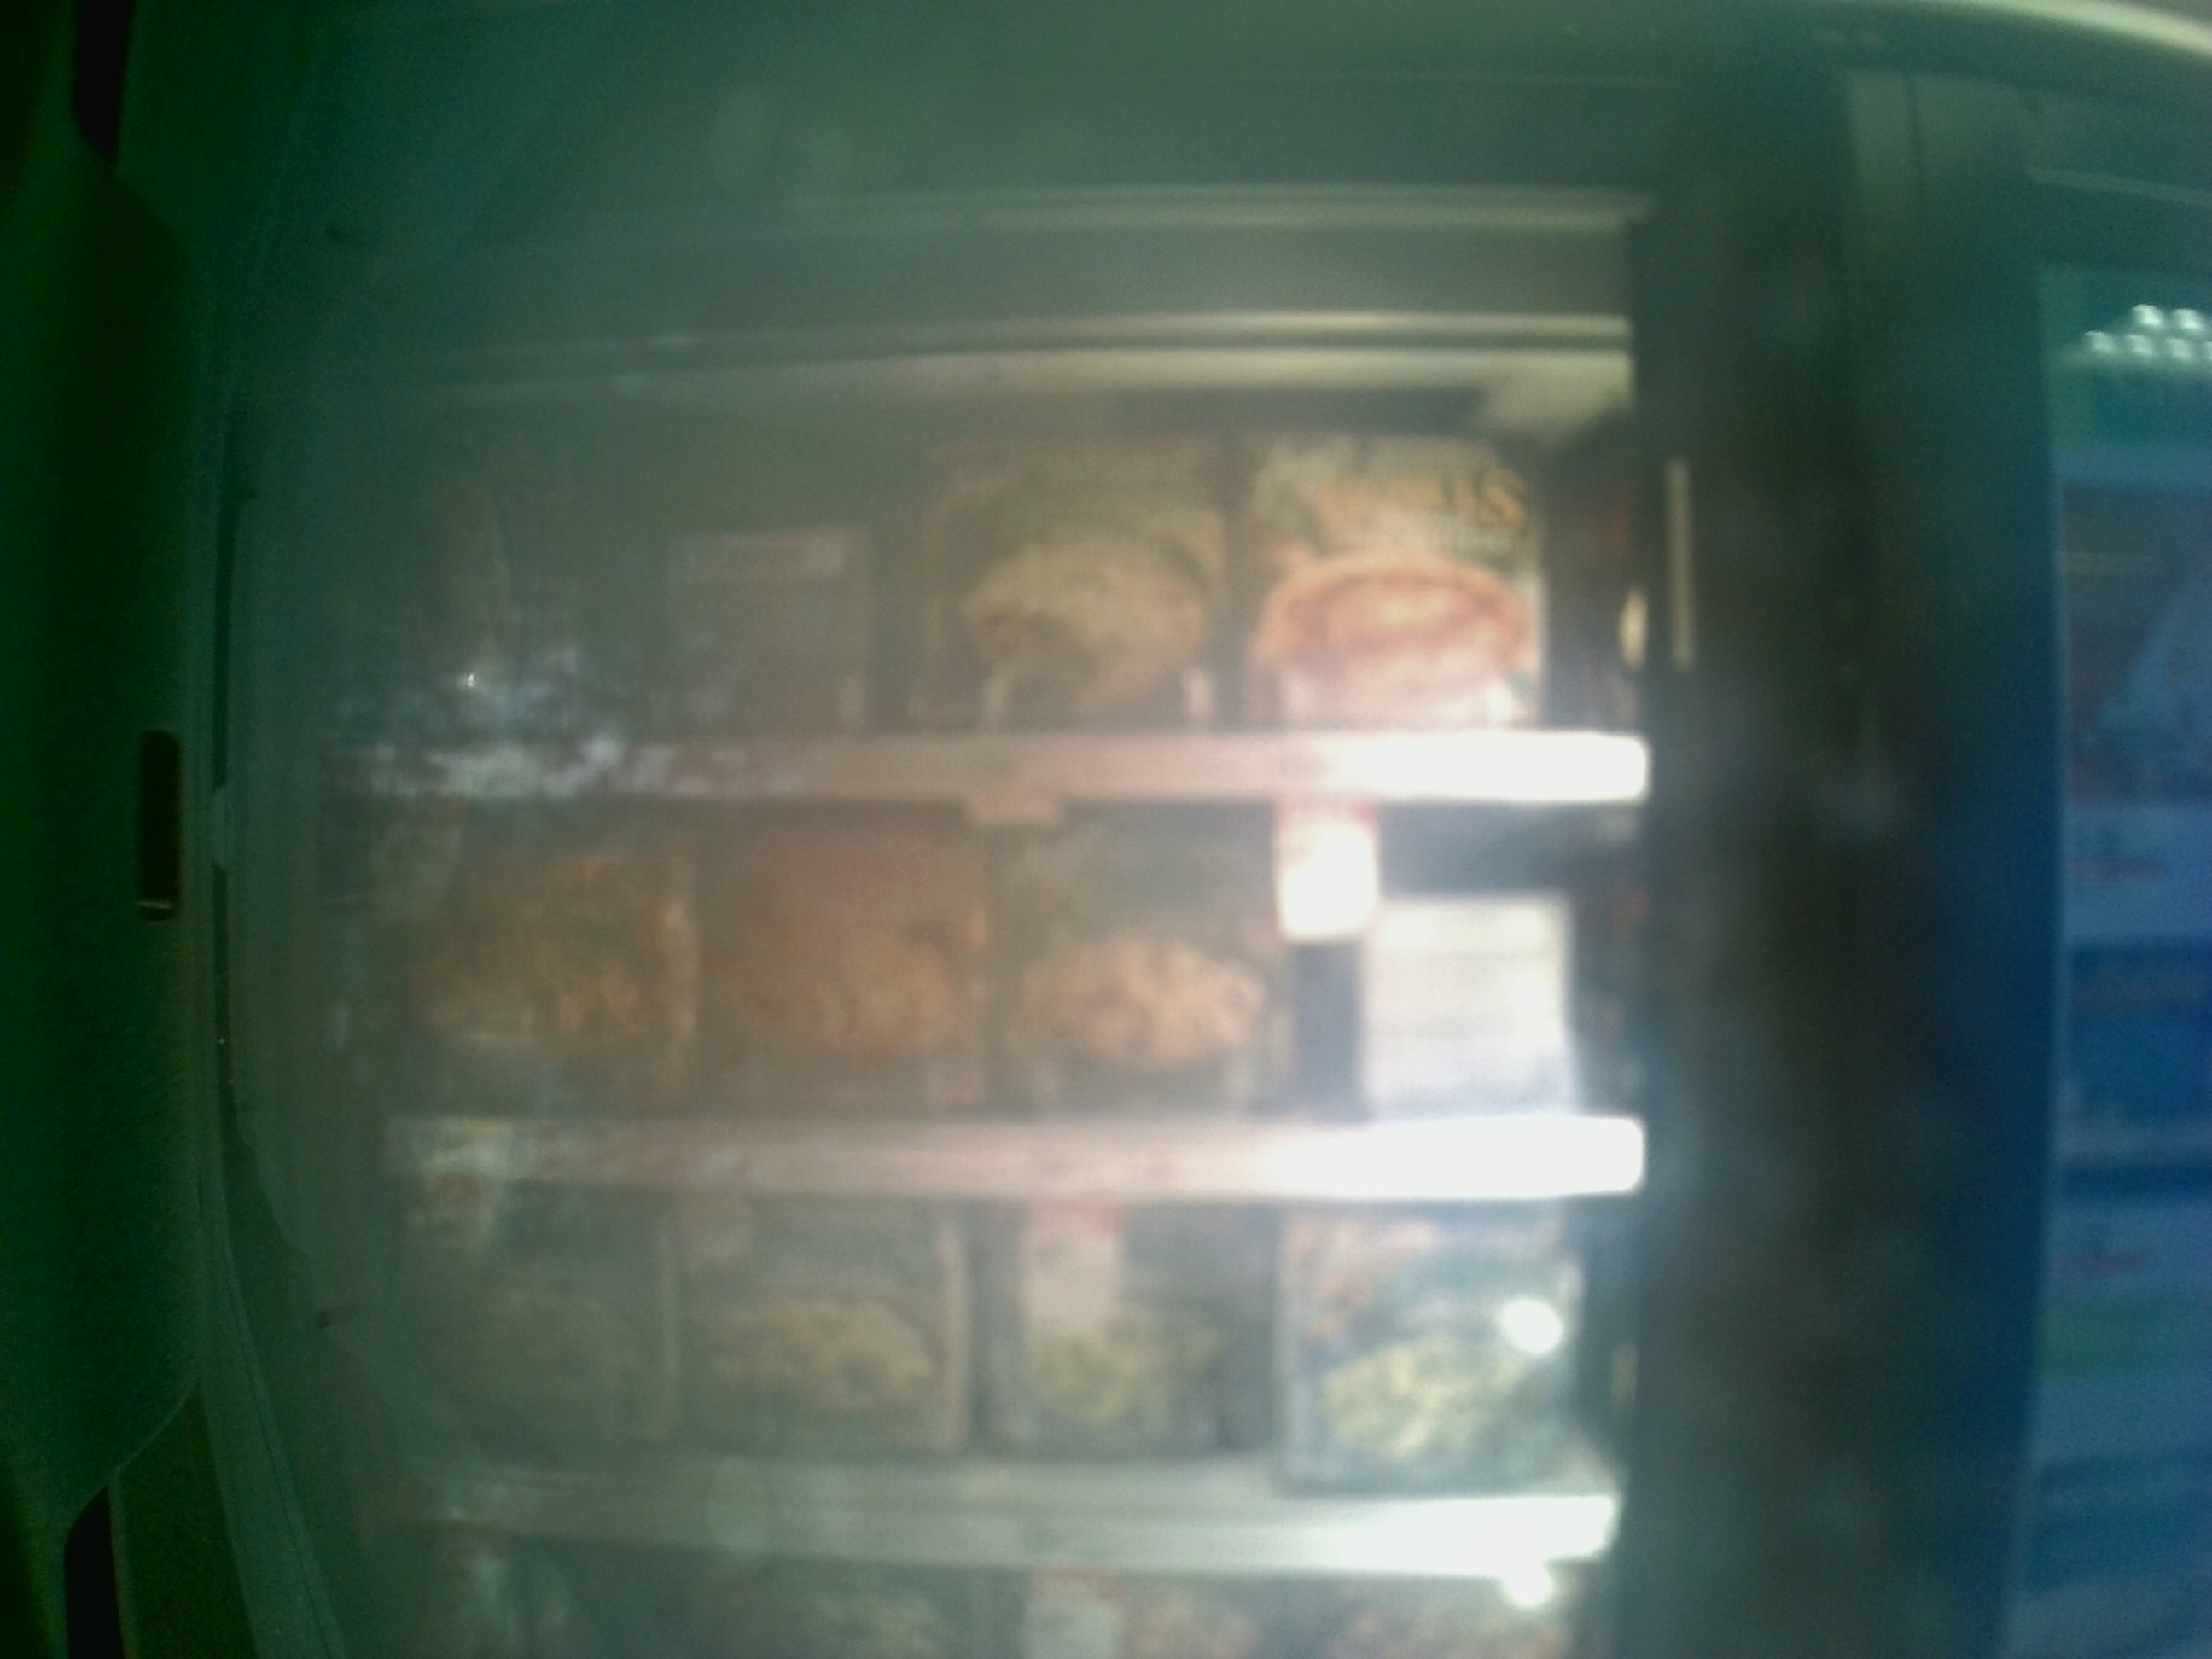frozen-food-shelf: (294, 397, 1667, 812), (294, 817, 1667, 1211), (294, 1218, 1672, 1577)
